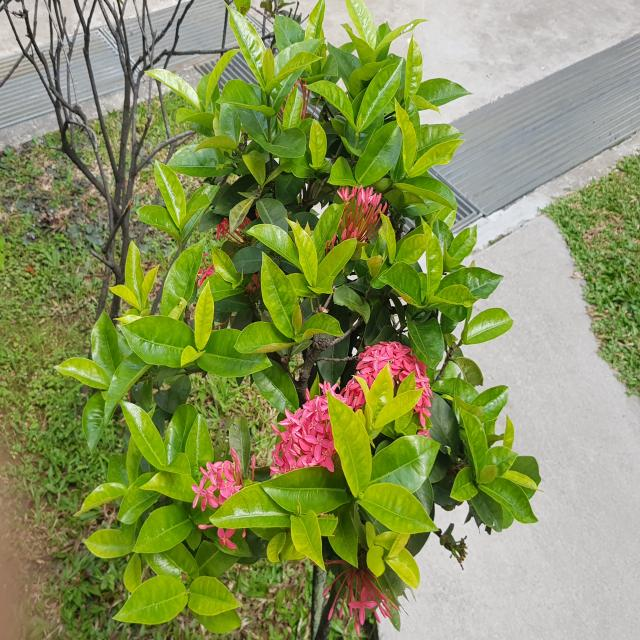Chinese-Ixora: (340, 334, 436, 438), (267, 371, 348, 474), (312, 552, 399, 636), (191, 445, 257, 551), (325, 184, 390, 256), (276, 76, 328, 126), (216, 206, 259, 244), (197, 251, 215, 288)
